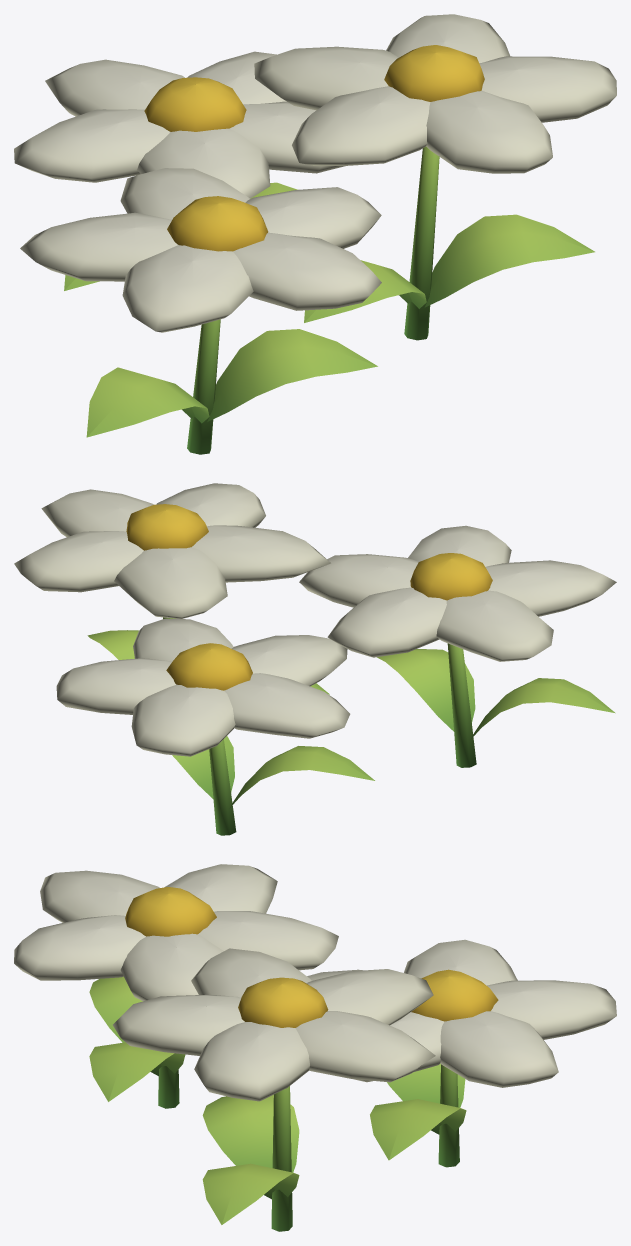
The model's file is daisies.glb.
3 renders of one model, top to bottom at view 1: azimuth 30°, elevation 25°; view 2: azimuth 150°, elevation 25°; view 3: azimuth 270°, elevation 25°, orthographic. The views are drawn at different scales.
Visible parts, largest first — view 1: Petals, Grass; view 2: Petals, Grass; view 3: Petals, Grass.
Boxes of the visible parts, bbox=[...] form: Petals: bbox=[14, 14, 616, 332]; Grass: bbox=[64, 146, 594, 454]; Petals: bbox=[14, 483, 616, 756]; Grass: bbox=[87, 617, 615, 835]; Petals: bbox=[14, 864, 616, 1101]; Grass: bbox=[89, 976, 466, 1231].
Size of the model in its own units: 0.7895 by 0.3476 by 0.7549.
